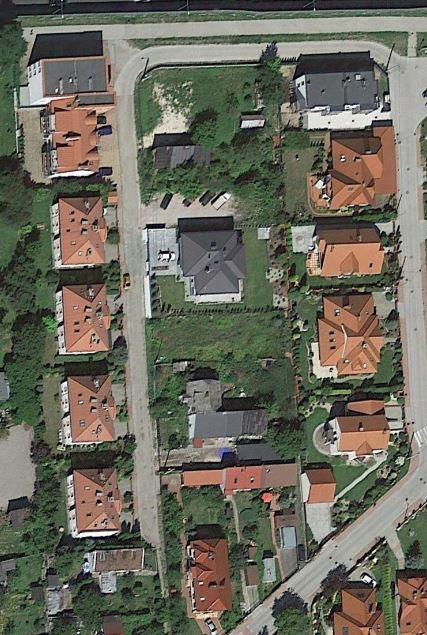block of flats: (312, 291, 390, 378), (318, 132, 392, 215), (26, 46, 115, 111), (34, 102, 106, 179), (319, 392, 397, 463), (46, 192, 113, 273), (48, 277, 115, 358), (52, 369, 119, 450), (62, 462, 129, 543), (293, 65, 388, 122), (309, 223, 392, 279)
family house: (175, 223, 251, 301), (183, 533, 235, 622), (330, 583, 390, 635)
garage: (175, 457, 300, 500), (182, 408, 276, 444), (150, 137, 219, 169)
